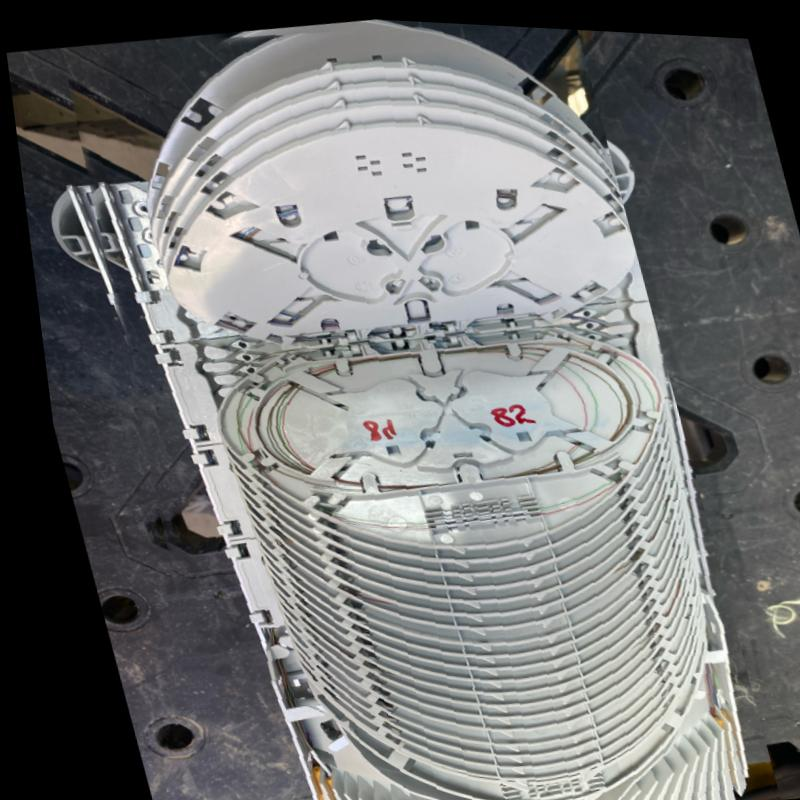NT-Muffen: (78, 21, 739, 800)
